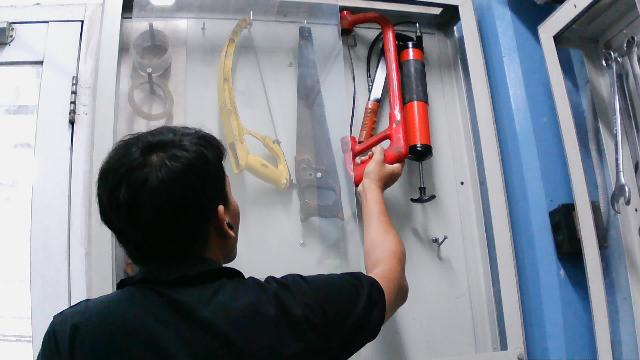gergaji_besi: (334, 8, 412, 189)
